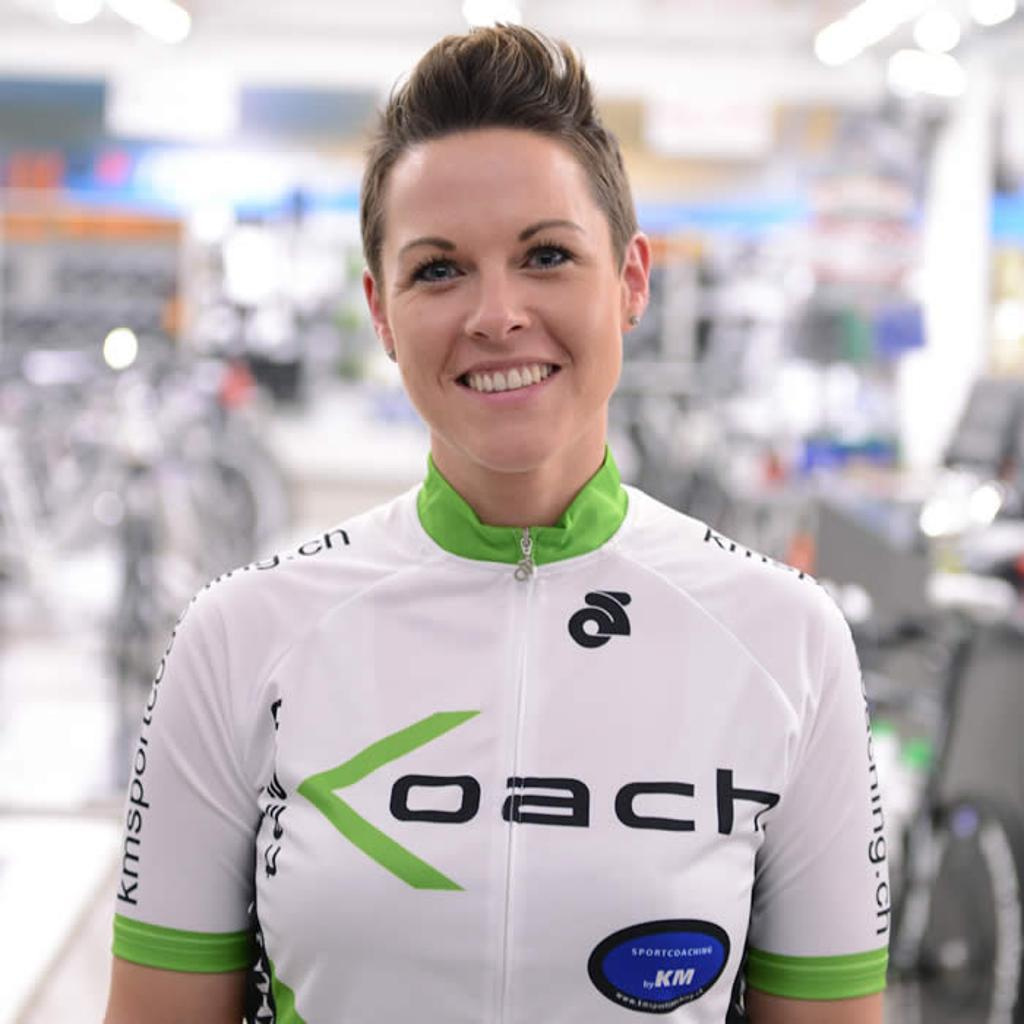face: (383, 129, 621, 473)
